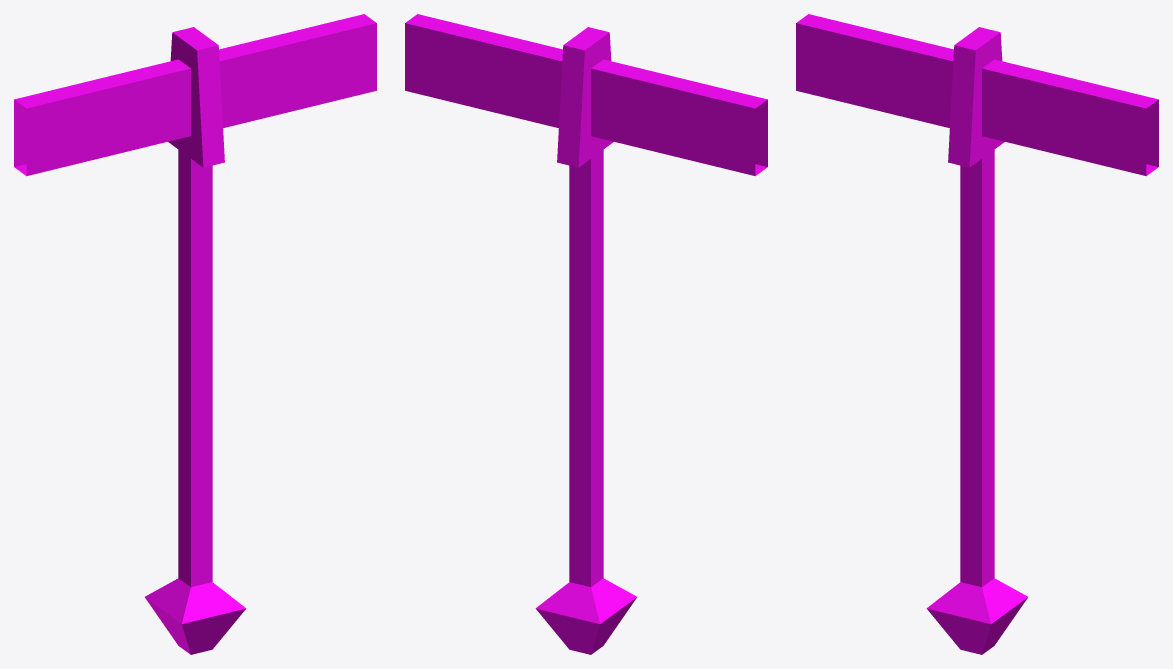
File: obstical_ropeswing.obj
3 renders of one model, left to right at view 1: azimuth 30°, elevation 25°; view 2: azimuth 150°, elevation 25°; view 3: azimuth 330°, elevation 25°, orthographic.
Visible parts, largest first — view 1: obstical_ropeswing_back; view 2: obstical_ropeswing_back; view 3: obstical_ropeswing_back.
Boxes of the visible parts, x1,y1,x2,y2 form: obstical_ropeswing_back: (14,14,376,654); obstical_ropeswing_back: (405,14,767,654); obstical_ropeswing_back: (796,14,1158,654).
Bounding box in the file's own units: 1.3 × 2.16 × 0.24.
